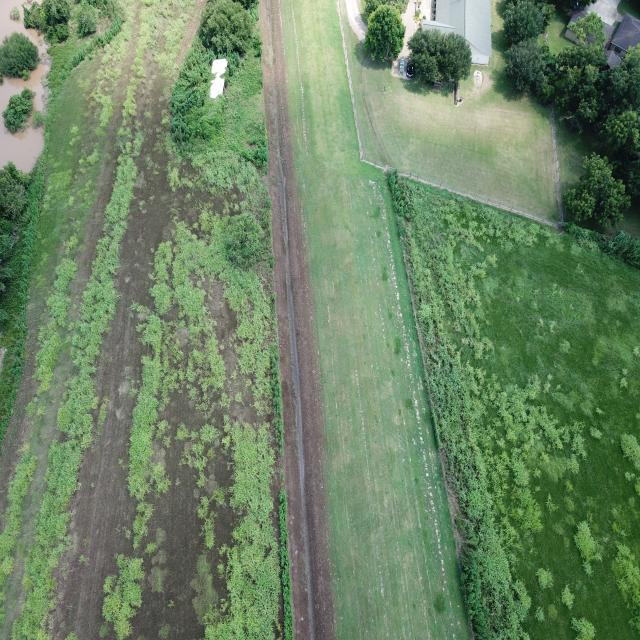fire: (0, 0, 49, 172)
